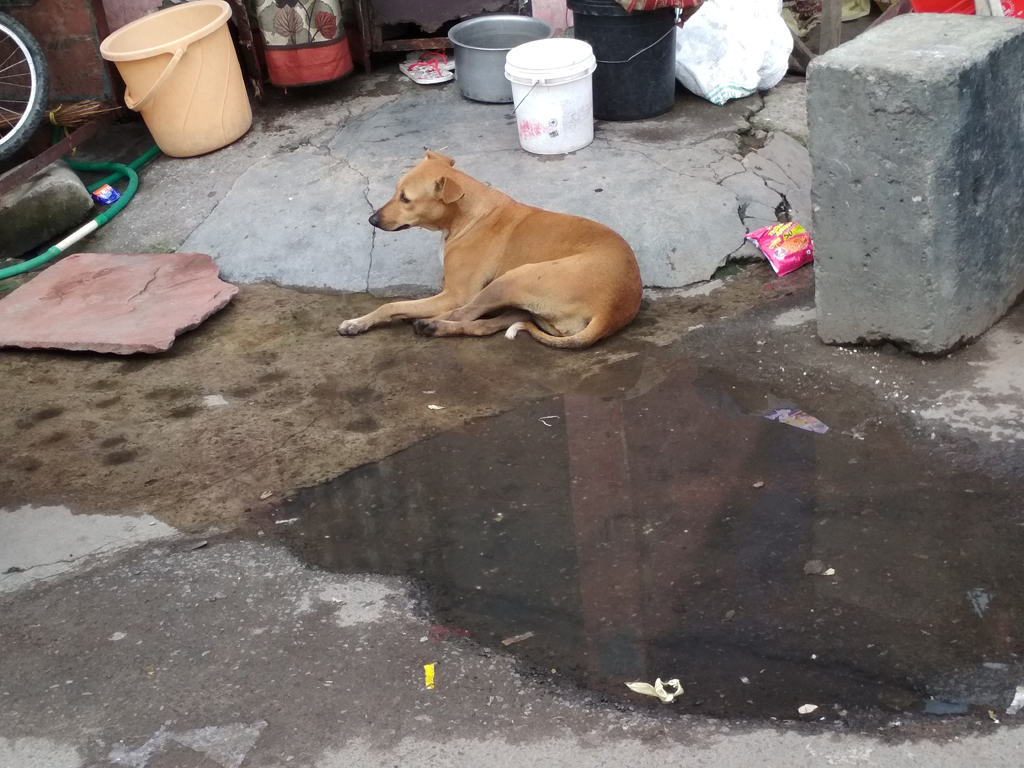dog: (336, 146, 643, 349)
